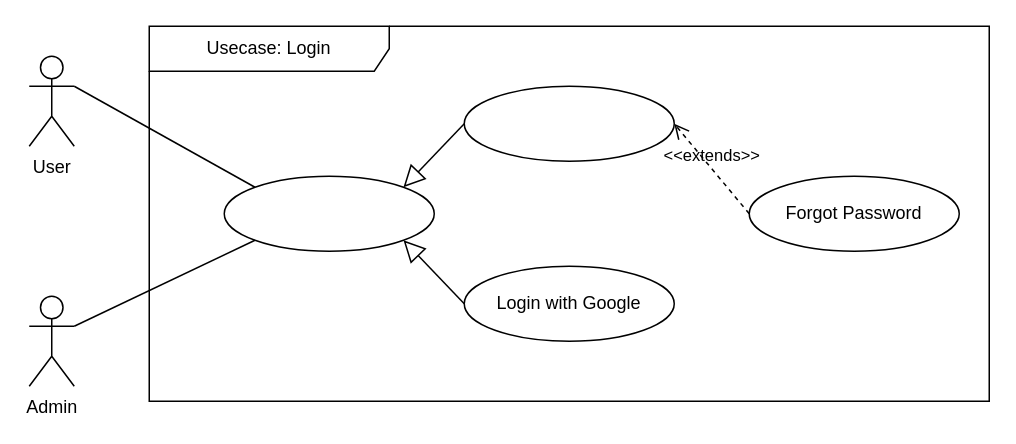
Some shapes in this 1016 by 444 pixel diagram are drawn without their labels. The centre of each missing label's shape, as x and y in pixels:
Login: (328,213)
Login with Email: (568,123)
